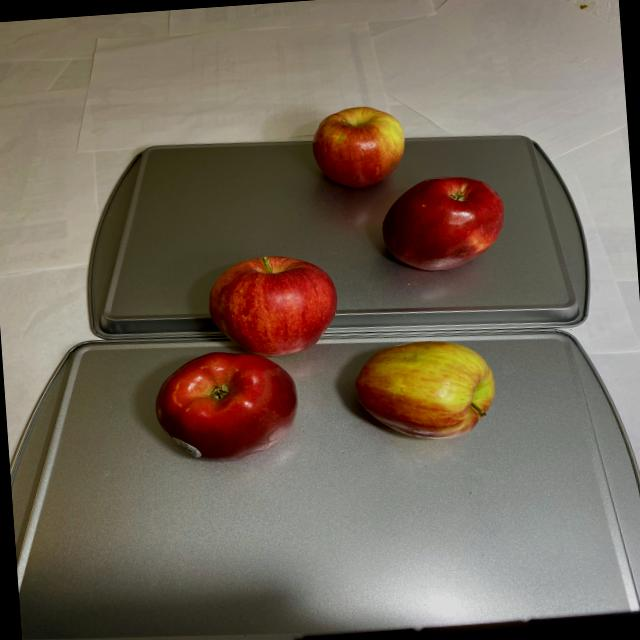apple: (144, 239, 502, 481), (308, 99, 508, 278)
